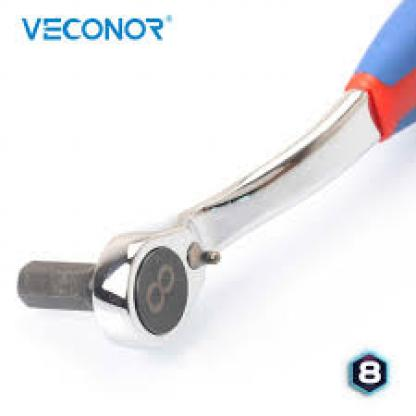Wrench: (7, 0, 416, 355)
